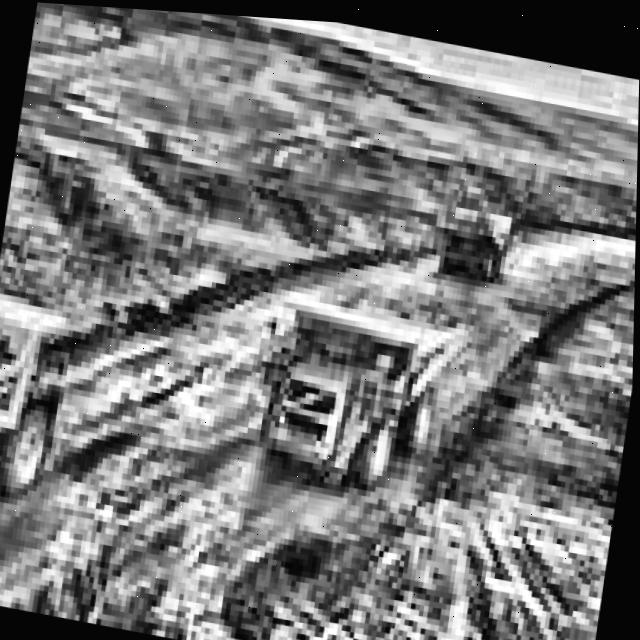dump_truck: (245, 243, 490, 519), (0, 258, 90, 575)
